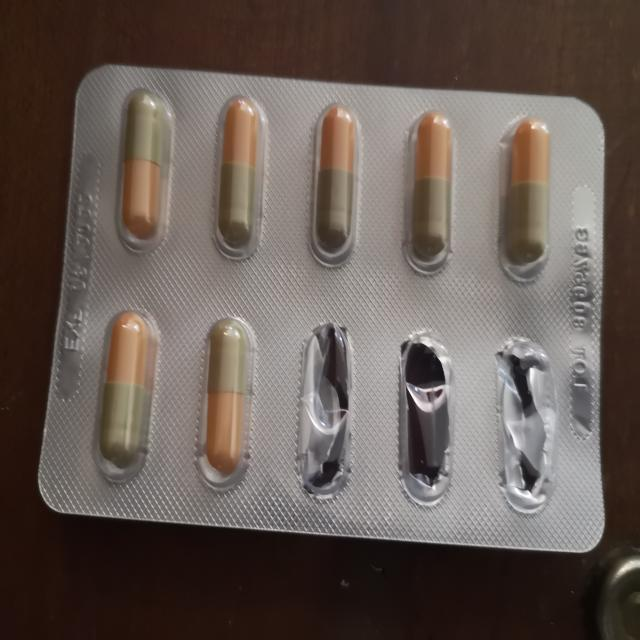Empty: (486, 332, 566, 520), (290, 309, 364, 506), (388, 322, 464, 508)
Pill: (86, 302, 164, 489), (106, 79, 184, 259), (193, 311, 264, 498), (491, 107, 560, 290), (204, 90, 274, 266), (397, 97, 463, 283), (303, 95, 367, 278)
